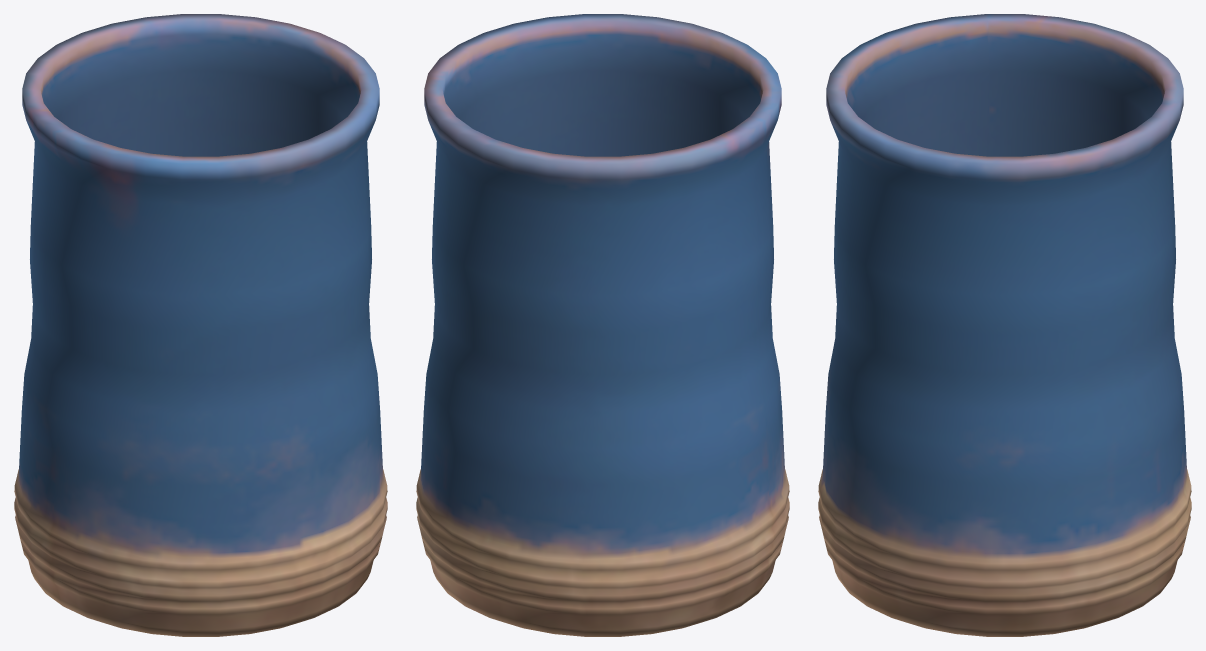
The model's file is SM_ClayVases_02.fbx.
3 renders of one model, left to right at view 1: azimuth 30°, elevation 25°; view 2: azimuth 150°, elevation 25°; view 3: azimuth 270°, elevation 25°, orthographic.
Visible parts, largest first — view 1: SM_ClayVases_02_LOD0; view 2: SM_ClayVases_02_LOD0; view 3: SM_ClayVases_02_LOD0.
Part boxes in pixels (left/top/right/bottom): SM_ClayVases_02_LOD0: left=14, top=14, right=387, bottom=636; SM_ClayVases_02_LOD0: left=416, top=14, right=789, bottom=636; SM_ClayVases_02_LOD0: left=818, top=14, right=1191, bottom=636.
Bounding box in the file's own units: 15.49 × 15.57 × 22.11.
1 material, 1 textured.
